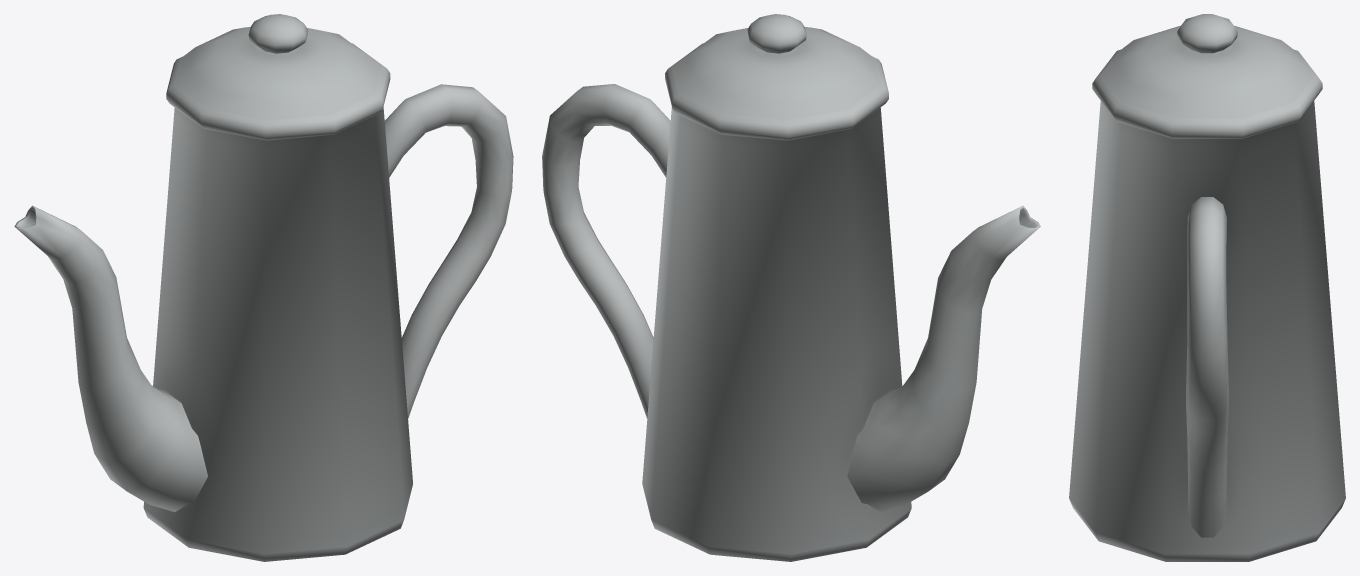
Rendered from sb_obj_indoor020_Pot02.fbx.
The picture shows the model from 3 angles, left to right: view 1: azimuth 30°, elevation 25°; view 2: azimuth 150°, elevation 25°; view 3: azimuth 270°, elevation 25°; orthographic projection.
Visible parts, largest first — view 1: sb_obj_indoor020_Pot02; view 2: sb_obj_indoor020_Pot02; view 3: sb_obj_indoor020_Pot02.
Part boxes in pixels (x1,y1,x2,y2): sb_obj_indoor020_Pot02: (14,14,513,561); sb_obj_indoor020_Pot02: (542,14,1040,561); sb_obj_indoor020_Pot02: (1069,14,1345,561).
Bounding box in the file's own units: 0.375 × 0.3564 × 0.1811.
